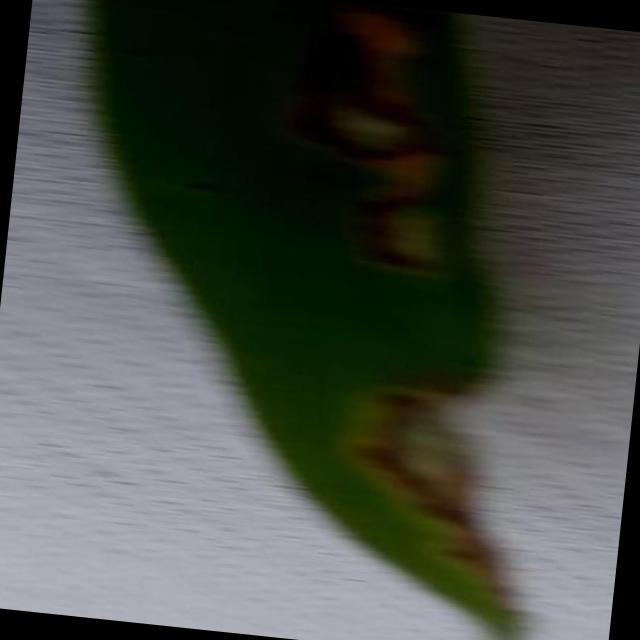Rice_Blast: (308, 362, 549, 580), (258, 4, 462, 179), (315, 158, 484, 282)
